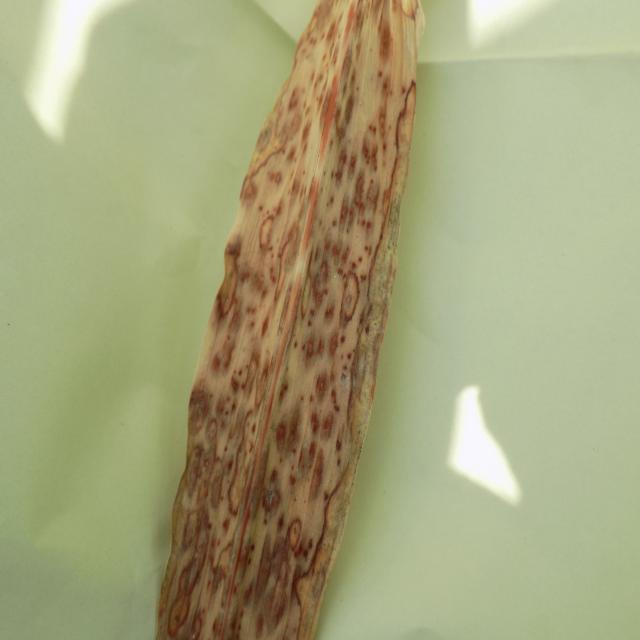millet_rust: (154, 0, 417, 640)
